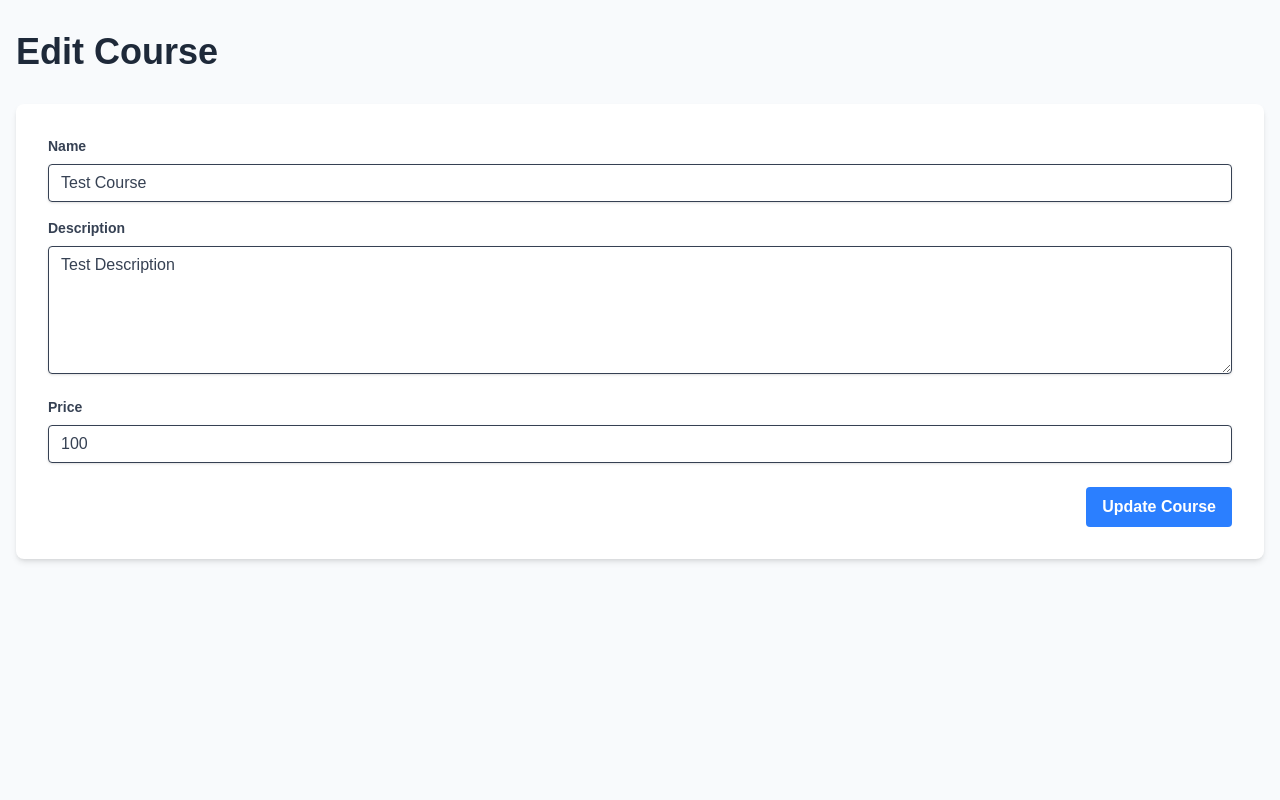
Test case: EditCoursePage › submits the form and shows success message
Replace the text in the field labelled "Name" with "Updated Course" at [640, 183], box [48, 164, 1232, 202]
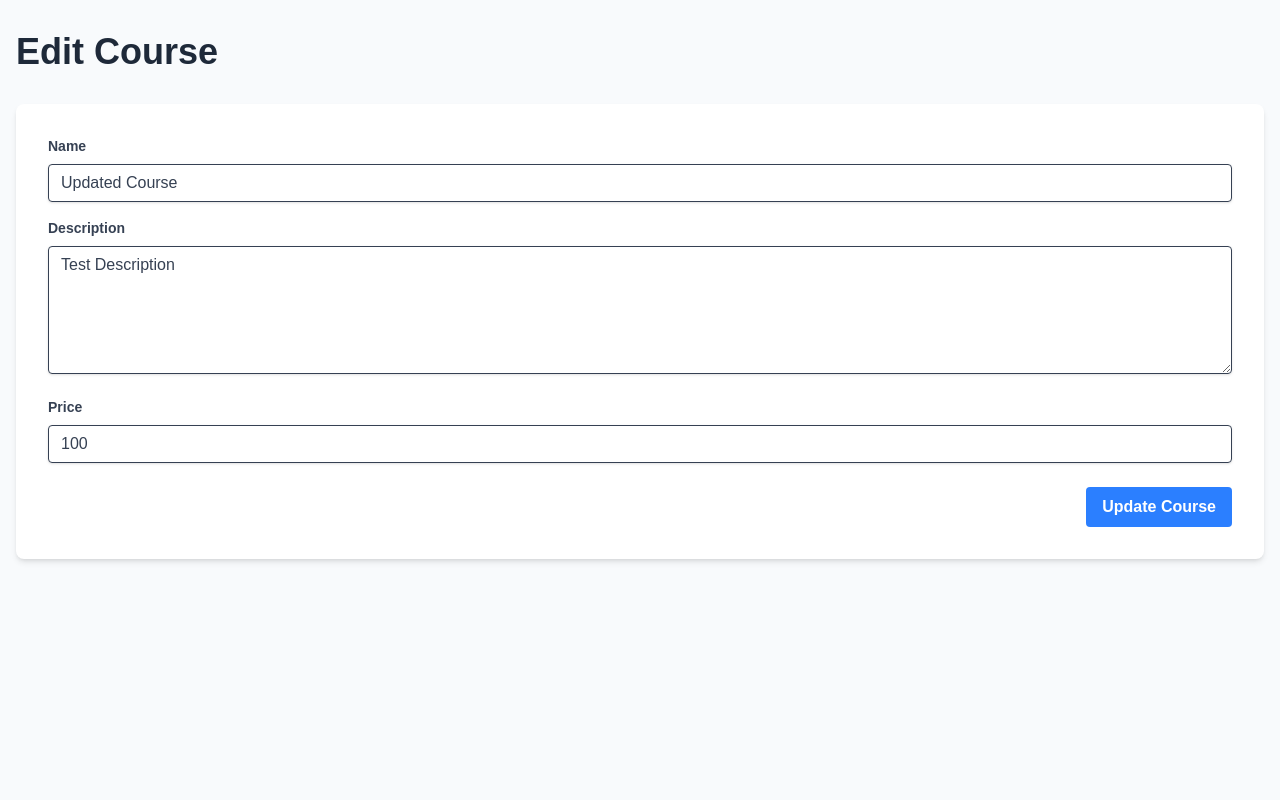
Click the button "Update Course" at [1159, 507], box [1086, 487, 1232, 527]
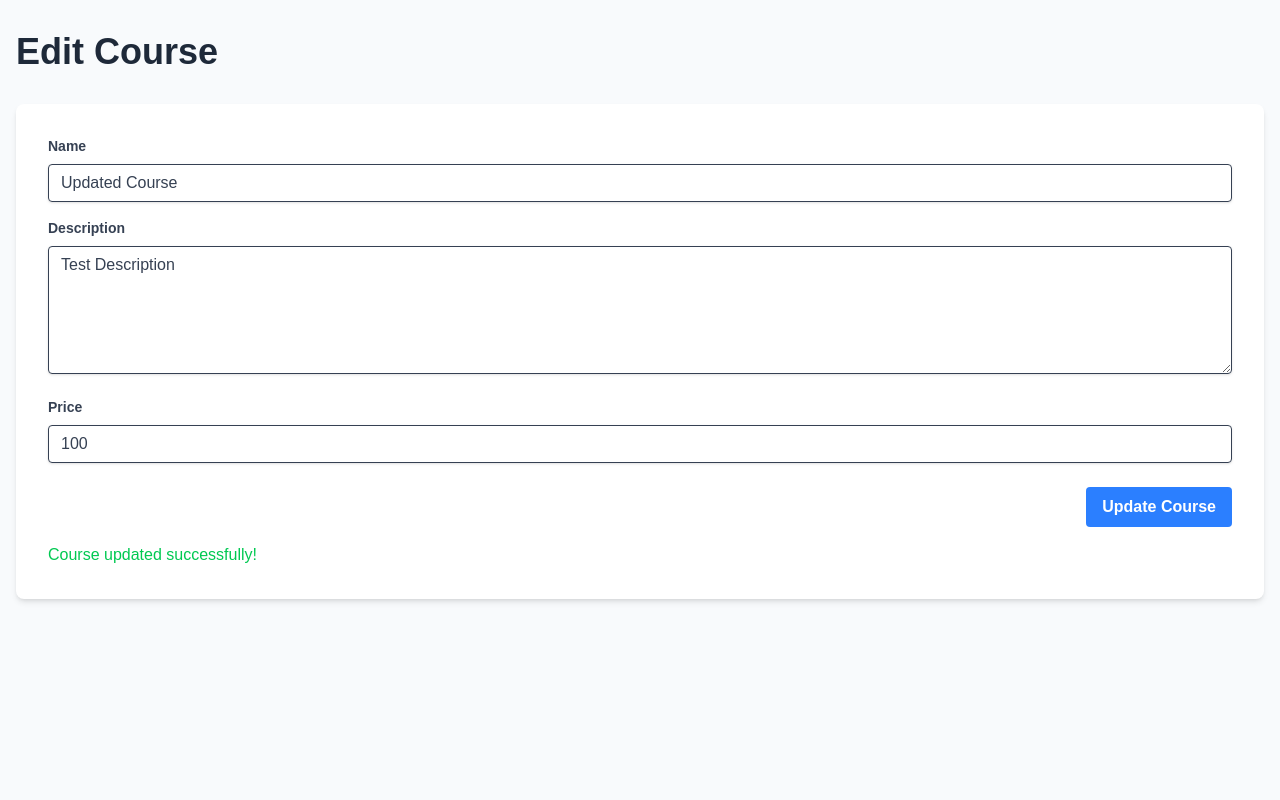
Now the text "Course updated successfully!" is shown, box [48, 546, 257, 563]
